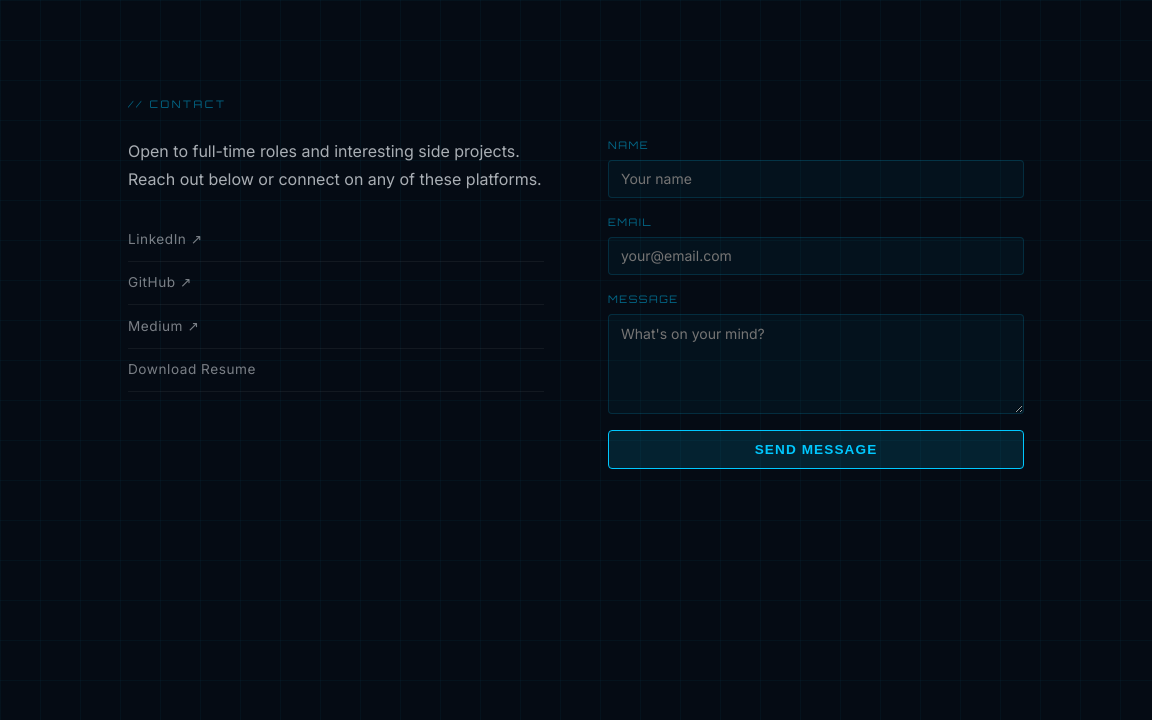
Test case: shows success message after successful form submission
Type "Test User" into the field labelled "Name". click: (816, 179)
box: [608,160,1024,198]
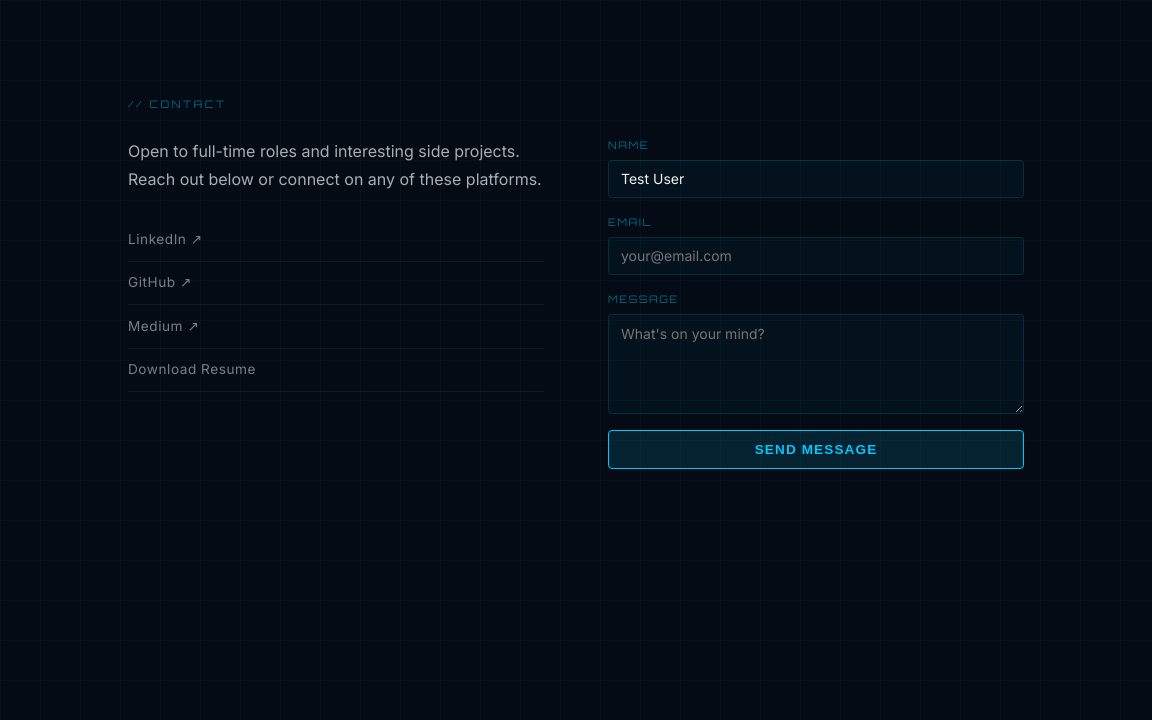
Type "test@example.com" into the field labelled "Email". click: (816, 256)
box: [608,237,1024,275]
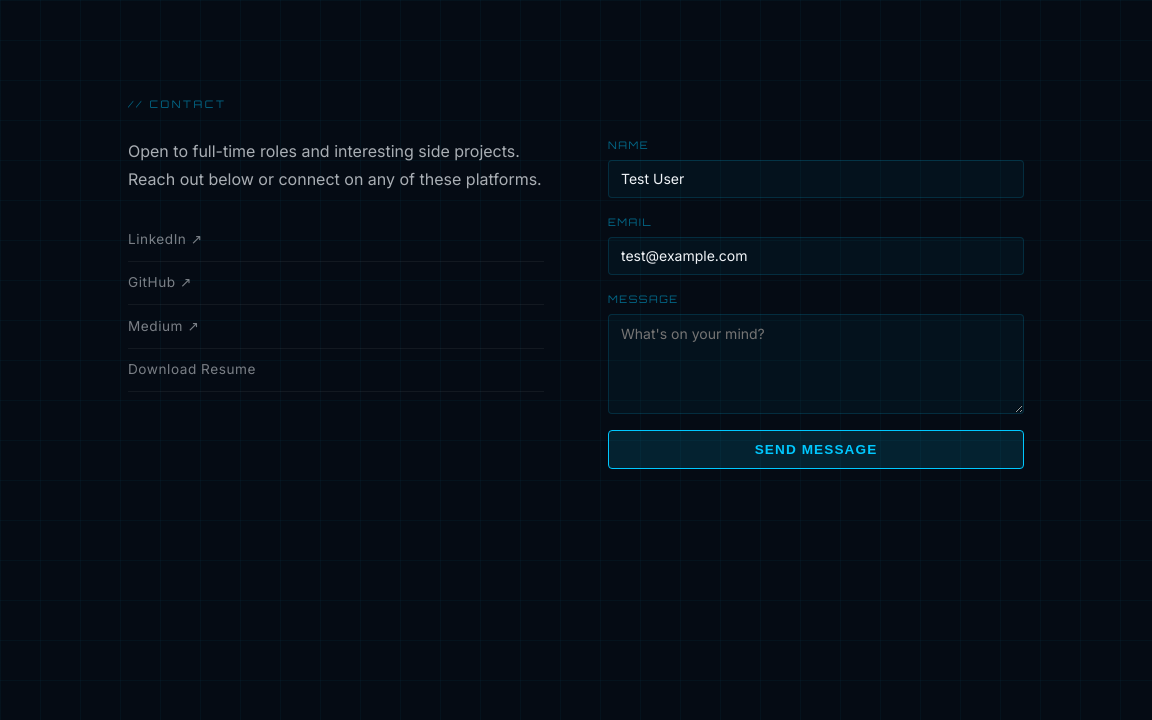
Type "Hello!" into the text box labelled "Message". click: (816, 364)
box: [608,314,1024,414]
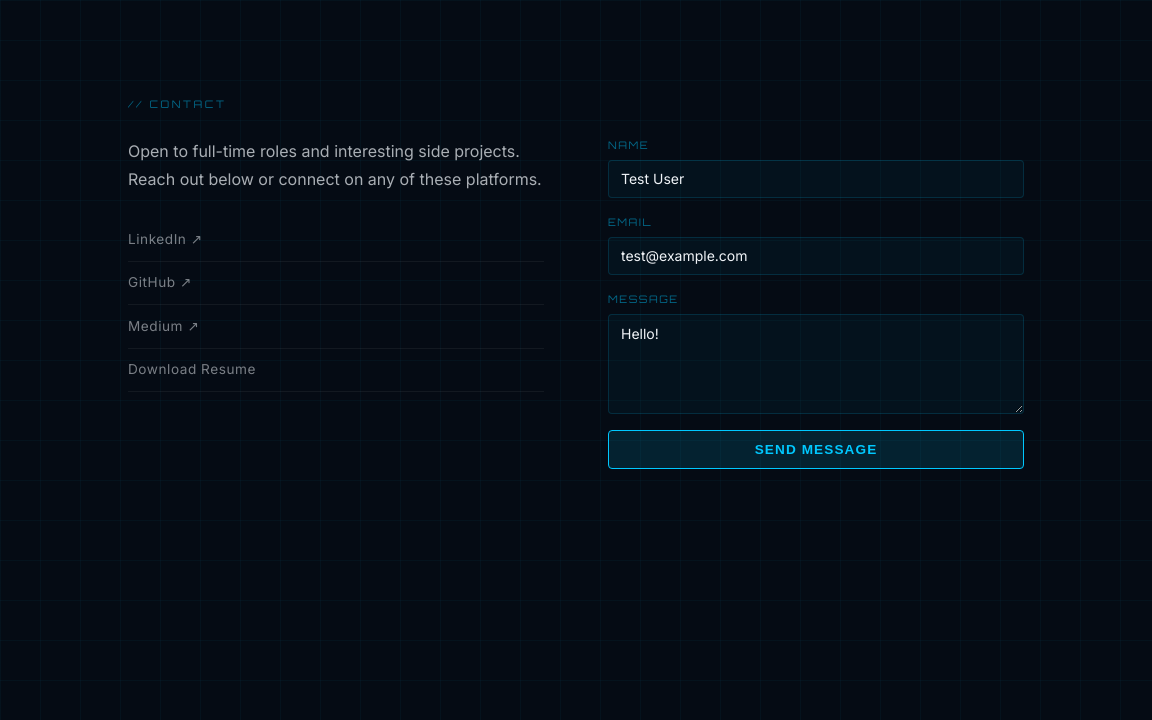
Click the button "Send Message". click: (816, 450)
box: [608,430,1024,470]
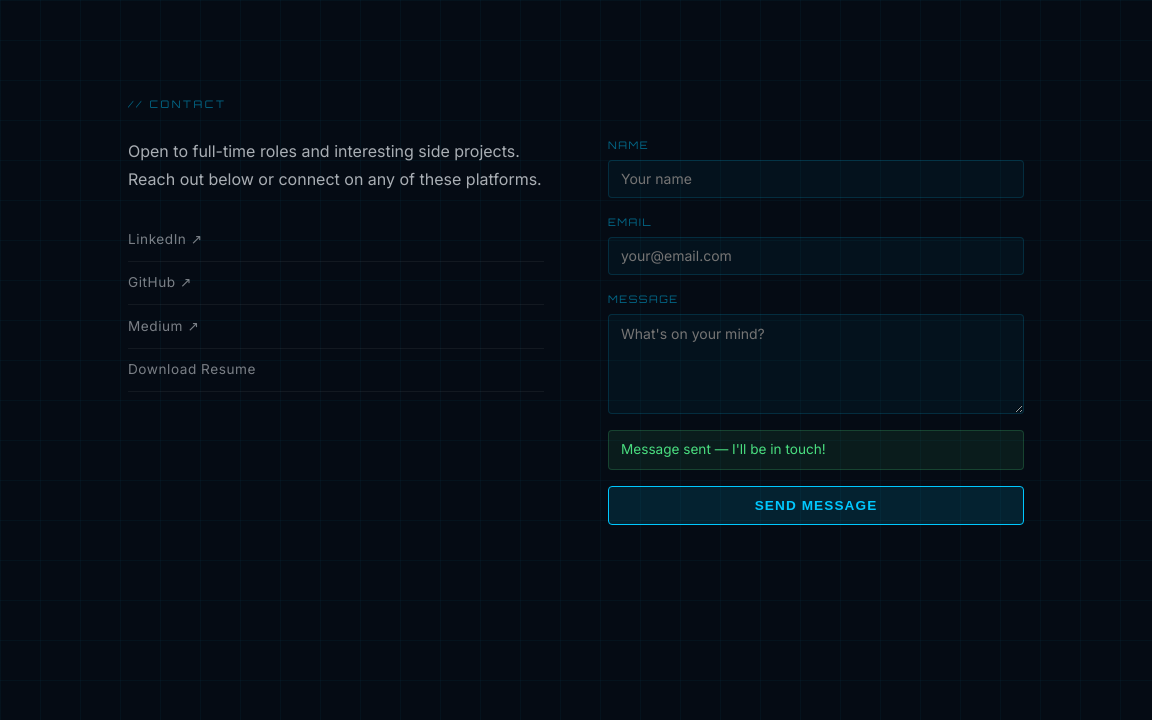
Expected: the text "Message sent — I'll be in touch!" is shown, [608,430,1024,470]
